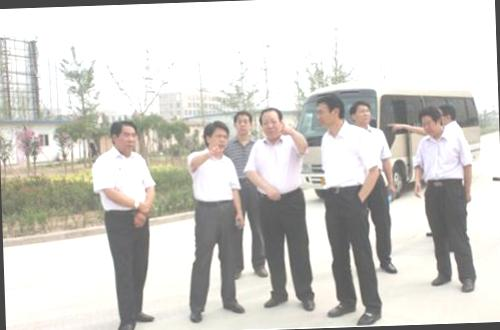no_helmet: (312, 90, 344, 130), (200, 118, 232, 156), (108, 117, 140, 155), (255, 104, 284, 141), (417, 103, 446, 136), (348, 97, 374, 128), (231, 107, 253, 141), (439, 100, 458, 128)
